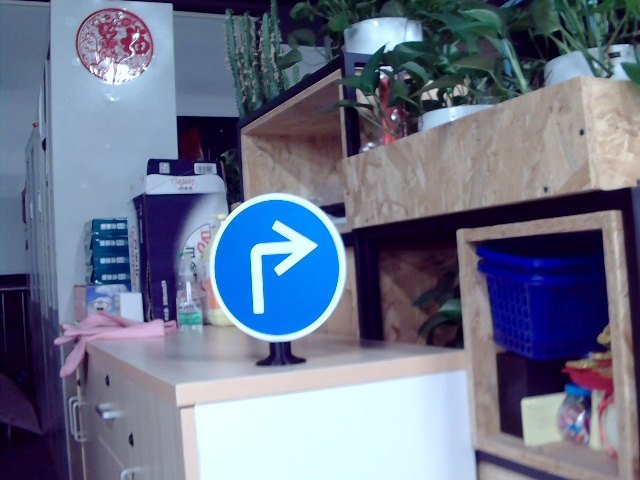turn_right: (240, 223, 320, 313)
